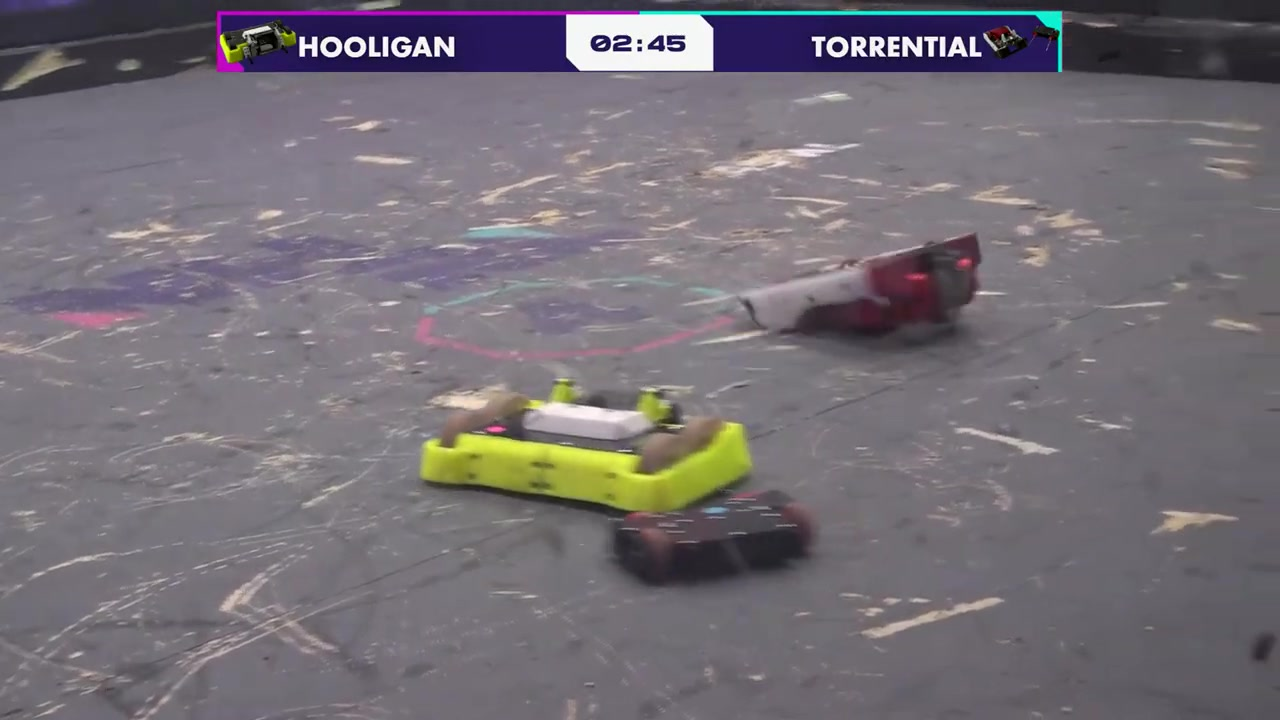combatbot: (422, 399, 749, 515), (738, 232, 981, 334)
minibot: (611, 492, 810, 584)
